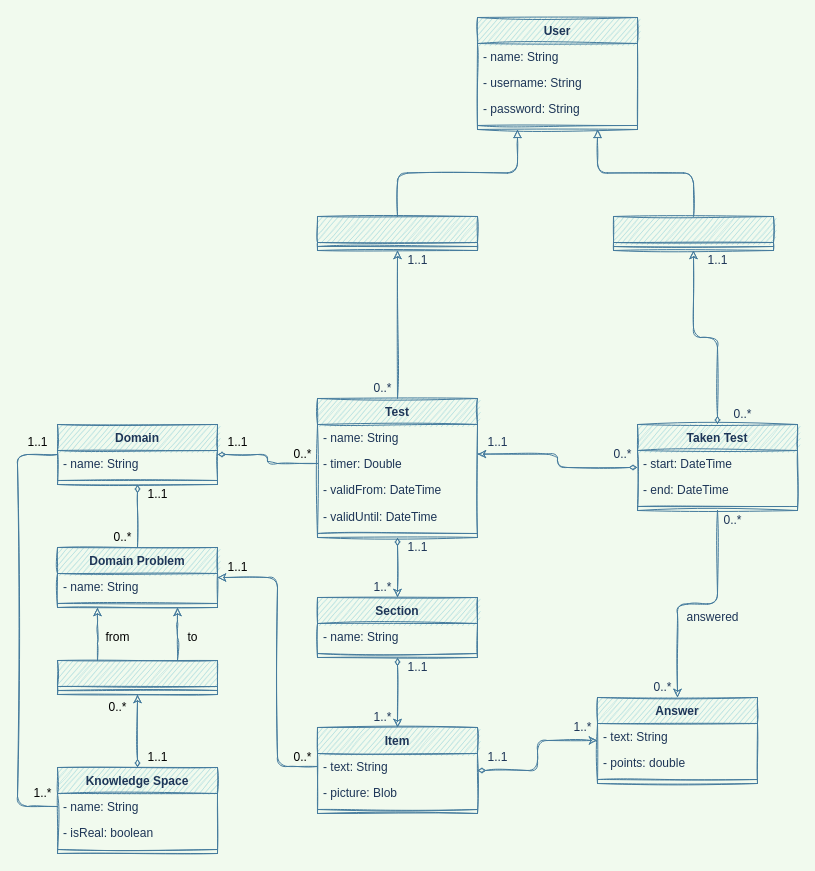
This 815x871 diagram has some shape labels left out. The shapes that lost their labels are listed below. From the top down, each one's centre as x and y in pixels, then its label:
At pixel 397 233: "Professor".
At pixel 693 233: "Student".
At pixel 137 677: "Edge".
